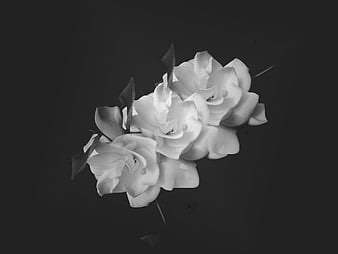jasmine: (79, 78, 251, 197)
